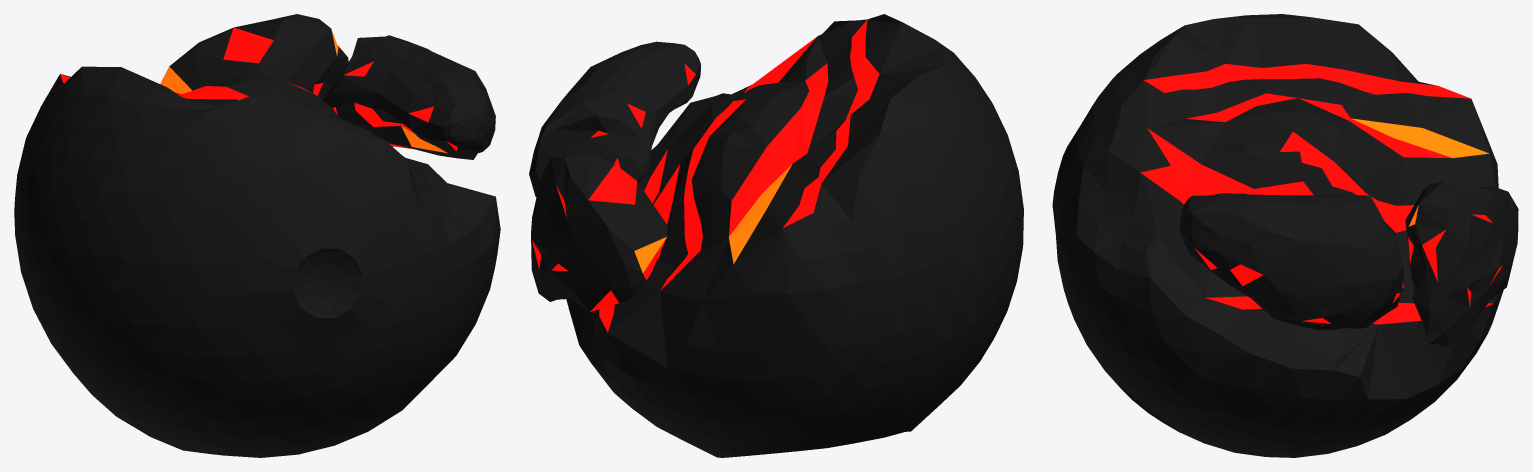
Rendered from Planet15.glb.
3 views of the same model, side by side, from view 1: azimuth 30°, elevation 25°; view 2: azimuth 150°, elevation 25°; view 3: azimuth 270°, elevation 25° (orthographic). The views are drawn at different scales.
Parts seen in each view (by area): view 1: Planet4-main, Planet4-right-big, Planet4-right-small; view 2: Planet4-main, Planet4-right-small, Planet4-right-big; view 3: Planet4-main, Planet4-right-big, Planet4-right-small.
Part boxes in pixels (box(x1,y1,x2,y2)): Planet4-main: box(14, 66, 500, 457); Planet4-right-big: box(323, 35, 495, 159); Planet4-right-small: box(160, 14, 348, 99); Planet4-main: box(566, 14, 1023, 457); Planet4-right-small: box(531, 143, 667, 312); Planet4-right-big: box(529, 41, 700, 197); Planet4-main: box(1052, 14, 1503, 457); Planet4-right-big: box(1179, 193, 1403, 329); Planet4-right-small: box(1405, 181, 1518, 346).
Bounding box in the file's own units: 10.15 × 9.06 × 10.17.
